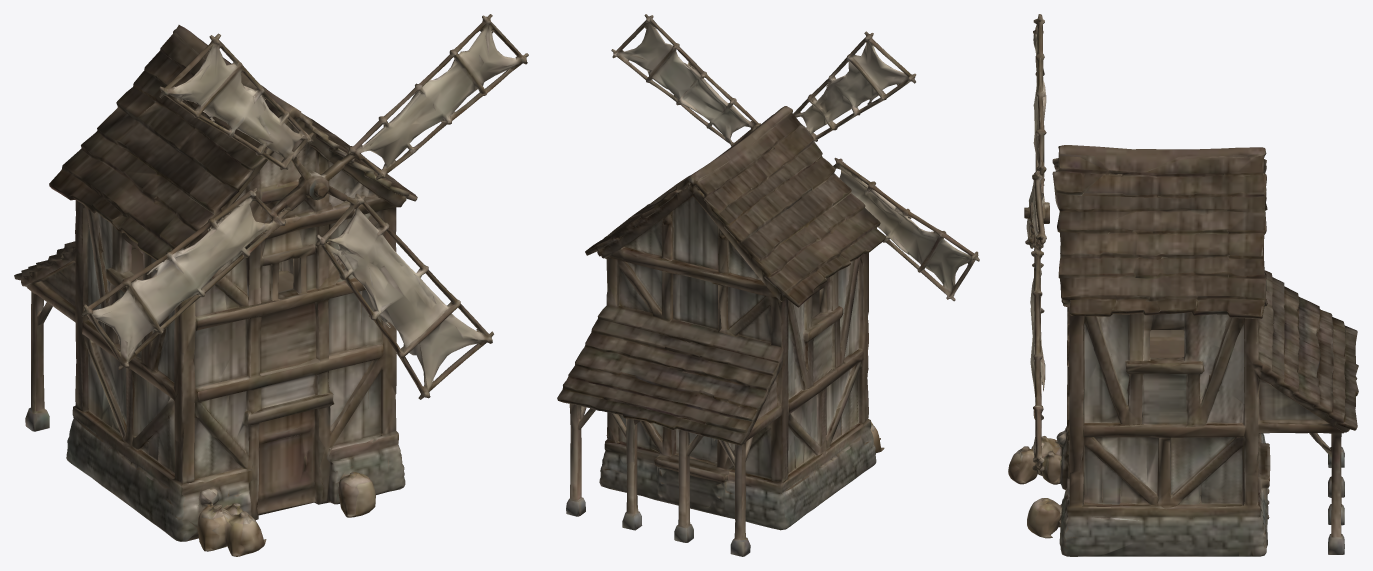
Rendered from farm.glb.
3 renders of one model, left to right at view 1: azimuth 30°, elevation 25°; view 2: azimuth 150°, elevation 25°; view 3: azimuth 270°, elevation 25°, orthographic. The views are drawn at different scales.
Parts seen in each view (by area): view 1: Mesh_0; view 2: Mesh_0; view 3: Mesh_0.
Part boxes in pixels (x1,y1,x2,y2): Mesh_0: [14, 14, 528, 556]; Mesh_0: [557, 14, 979, 556]; Mesh_0: [1008, 14, 1358, 556].
Size of the model in its own units: 1.74 by 1.9 by 1.33.
1 material, 1 textured.
